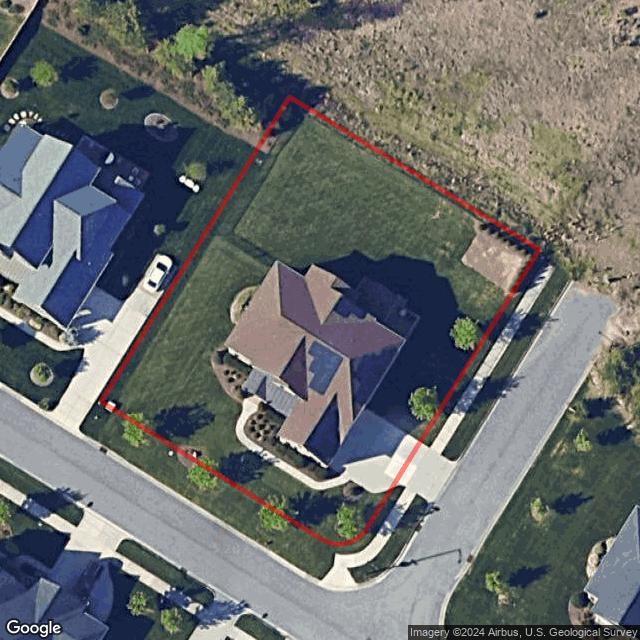Driveway: (329, 410, 421, 494)
Extra-Driveway: (395, 442, 458, 507)
Extra-Lawn: (79, 397, 405, 581), (440, 266, 573, 464), (420, 256, 546, 449), (347, 494, 429, 584)
Extra-Sidewalk: (430, 262, 557, 455), (320, 488, 417, 589)
House: (221, 259, 407, 470)
Lawn: (99, 96, 540, 546)
Other: (463, 211, 538, 295), (355, 276, 420, 340), (210, 345, 255, 403), (231, 286, 261, 326)
Sidewalk: (237, 396, 352, 490)
